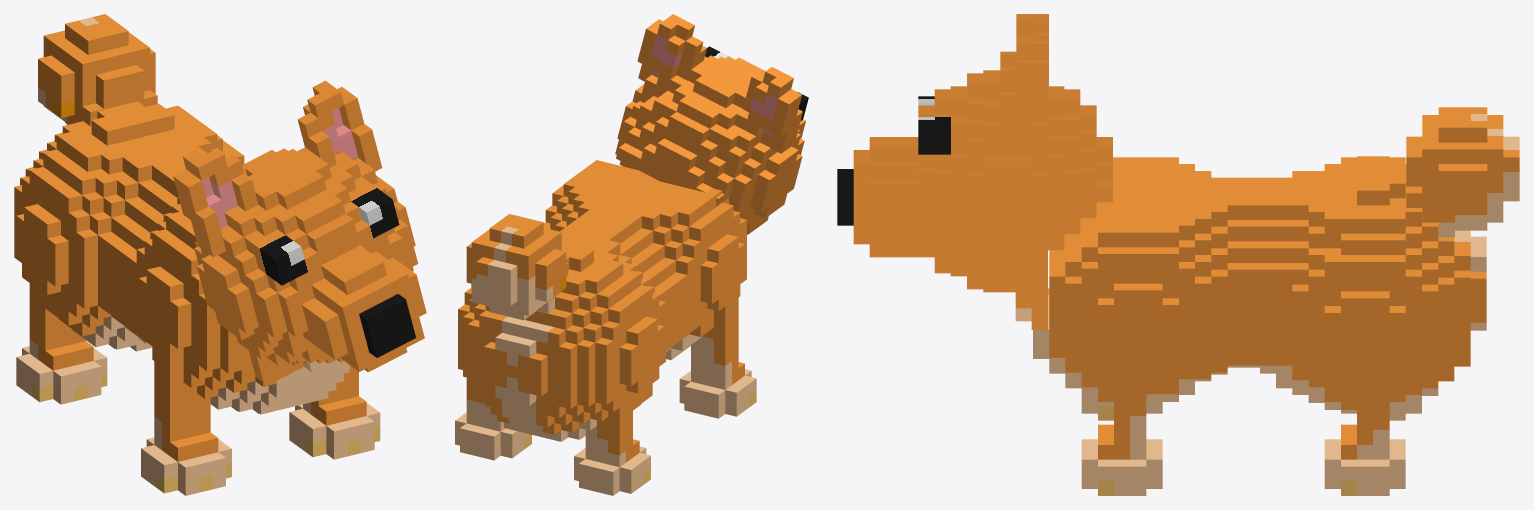
File: test_tail.dae
The picture shows the model from 3 angles, left to right: view 1: azimuth 30°, elevation 25°; view 2: azimuth 150°, elevation 25°; view 3: azimuth 270°, elevation 25°; orthographic projection. The views are drawn at different scales.
Parts seen in each view (by area): view 1: Body-local, Head-local, Tail-local, Ear_R-local, Ear_L-local; view 2: Body-local, Head-local, Tail-local, Ear_L-local, Ear_R-local; view 3: Body-local, Head-local, Tail-local, Ear_L-local, Ear_R-local.
Part boxes in pixels (<box>): Body-local: <box>14,101,380,495</box>; Head-local: <box>194,147,426,386</box>; Tail-local: <box>38,14,157,126</box>; Ear_R-local: <box>173,149,258,257</box>; Ear_L-local: <box>297,80,382,171</box>; Body-local: <box>455,160,756,495</box>; Head-local: <box>615,46,808,234</box>; Tail-local: <box>466,214,568,320</box>; Ear_L-local: <box>637,14,706,96</box>; Ear_R-local: <box>743,67,802,153</box>; Body-local: <box>1033,156,1486,495</box>; Head-local: <box>837,70,1112,329</box>; Tail-local: <box>1406,107,1519,237</box>; Ear_L-local: <box>1000,38,1048,142</box>; Ear_R-local: <box>1000,14,1048,66</box>.
Size of the model in its own units: 17.1 by 28.08 by 42.1.
Materials: 5 (5 with a texture image).
